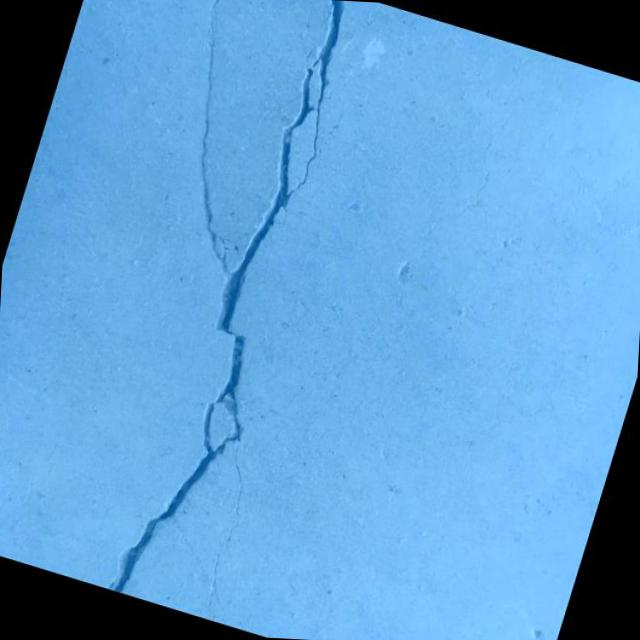crack: (22, 0, 413, 634)
